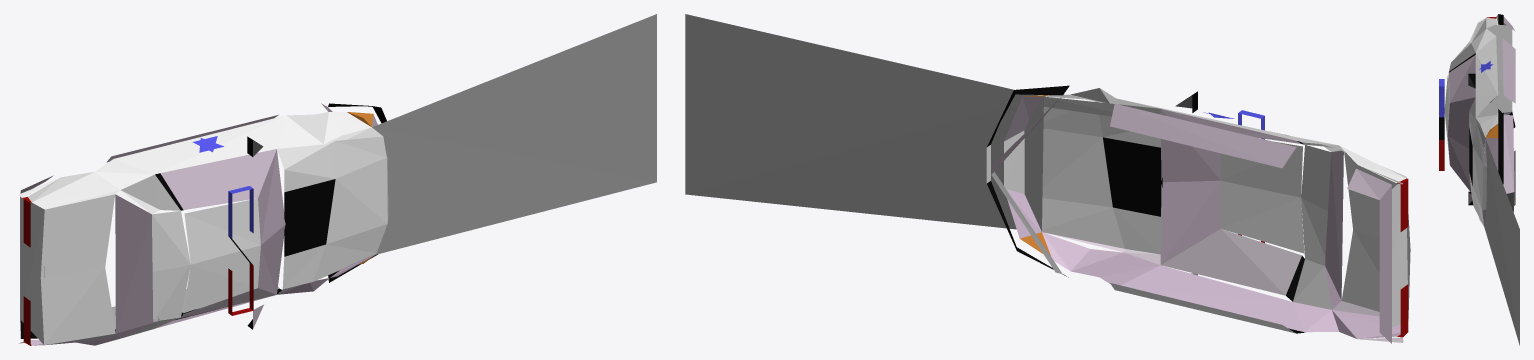
The model's file is objs2_48.obj.
The picture shows the model from 3 angles, left to right: view 1: azimuth 30°, elevation 25°; view 2: azimuth 150°, elevation 25°; view 3: azimuth 270°, elevation 25°; orthographic projection. The views are drawn at different scales.
Visible parts, largest first — view 1: objs2_48; view 2: objs2_48; view 3: objs2_48.
Part boxes in pixels (x1,y1,x2,y2): objs2_48: (18,14,656,345); objs2_48: (685,14,1410,343); objs2_48: (1439,14,1519,345).
Size of the model in its own units: 0.488 by 0.135 by 0.075.
